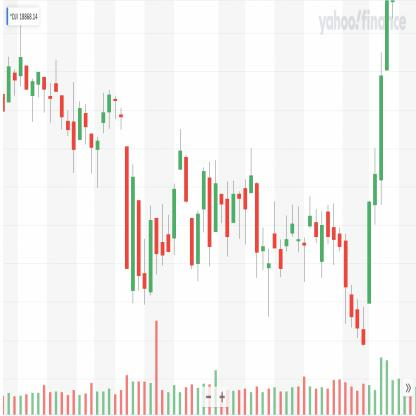Bullish: 3 White Soldiers: (366, 48, 384, 307)
